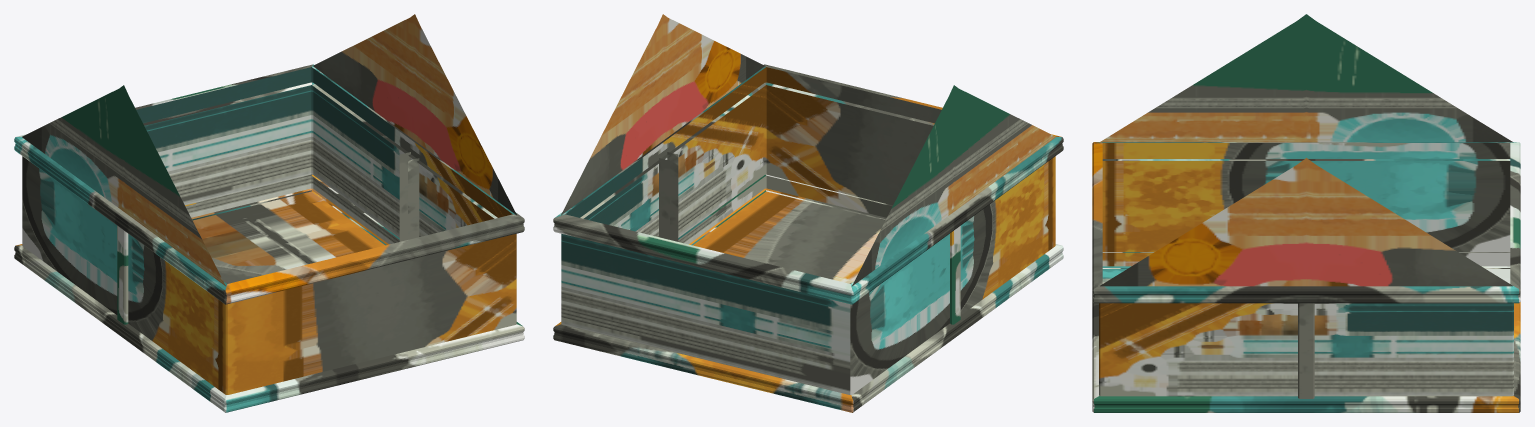
Rendered from WindmillHouseOtherFloorTop.fbx.
3 views of the same model, side by side, from view 1: azimuth 30°, elevation 25°; view 2: azimuth 150°, elevation 25°; view 3: azimuth 270°, elevation 25° (orthographic).
Visible parts, largest first — view 1: WindmillHouseOtherFloors.001; view 2: WindmillHouseOtherFloors.001; view 3: WindmillHouseOtherFloors.001.
Part boxes in pixels (x1,y1,x2,y2): WindmillHouseOtherFloors.001: [14, 14, 524, 412]; WindmillHouseOtherFloors.001: [553, 14, 1063, 412]; WindmillHouseOtherFloors.001: [1092, 14, 1520, 412].
Size of the model in its own units: 23.46 by 18.71 by 28.63.
